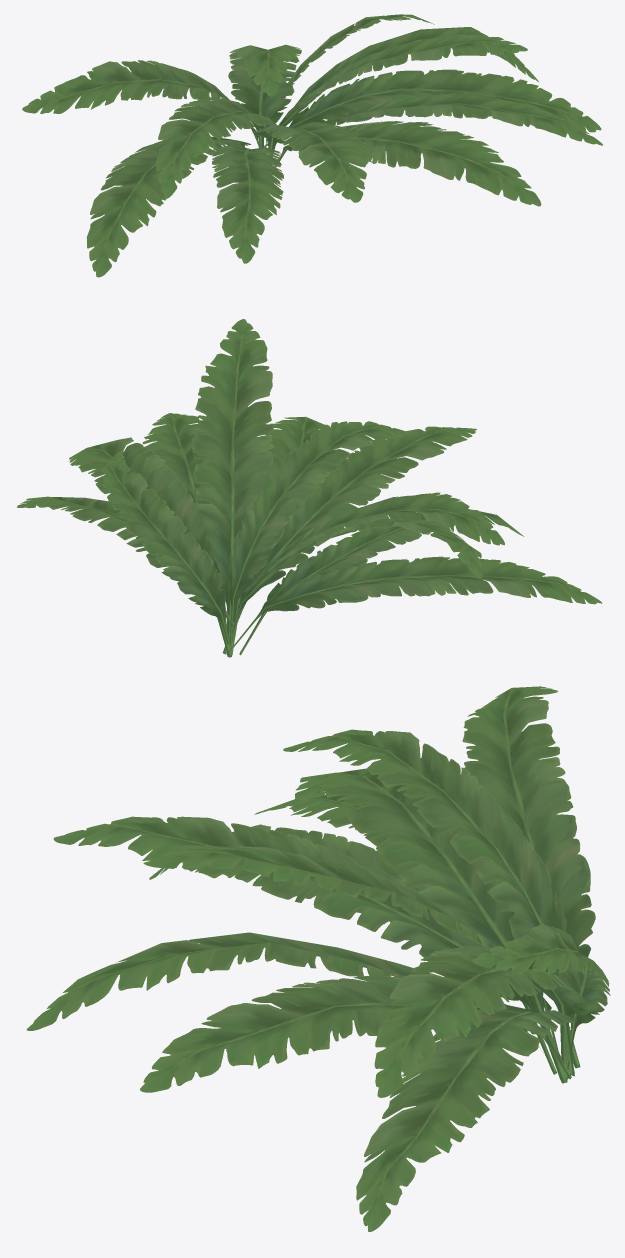
Rendered from SM_EastLands_LongLeaves_03.fbx.
3 renders of one model, top to bottom at view 1: azimuth 30°, elevation 25°; view 2: azimuth 150°, elevation 25°; view 3: azimuth 270°, elevation 25°, orthographic. The views are drawn at different scales.
Visible parts, largest first — view 1: SM_EastLands_LongLeaves_03_LOD0; view 2: SM_EastLands_LongLeaves_03_LOD0; view 3: SM_EastLands_LongLeaves_03_LOD0.
Boxes of the visible parts, x1,y1,x2,y2 form: SM_EastLands_LongLeaves_03_LOD0: [22, 14, 602, 277]; SM_EastLands_LongLeaves_03_LOD0: [17, 319, 601, 657]; SM_EastLands_LongLeaves_03_LOD0: [26, 686, 610, 1231].
Size of the model in its own units: 266 by 93.28 by 163.
